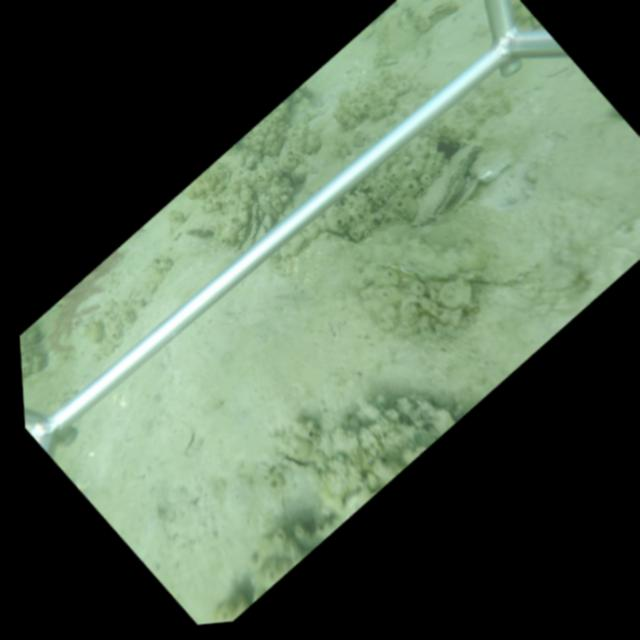Oyster-Closed: (360, 234, 542, 286), (412, 143, 480, 226), (232, 177, 263, 255), (283, 142, 309, 164), (184, 225, 216, 239)
Oyster-Open: (436, 175, 480, 219)
